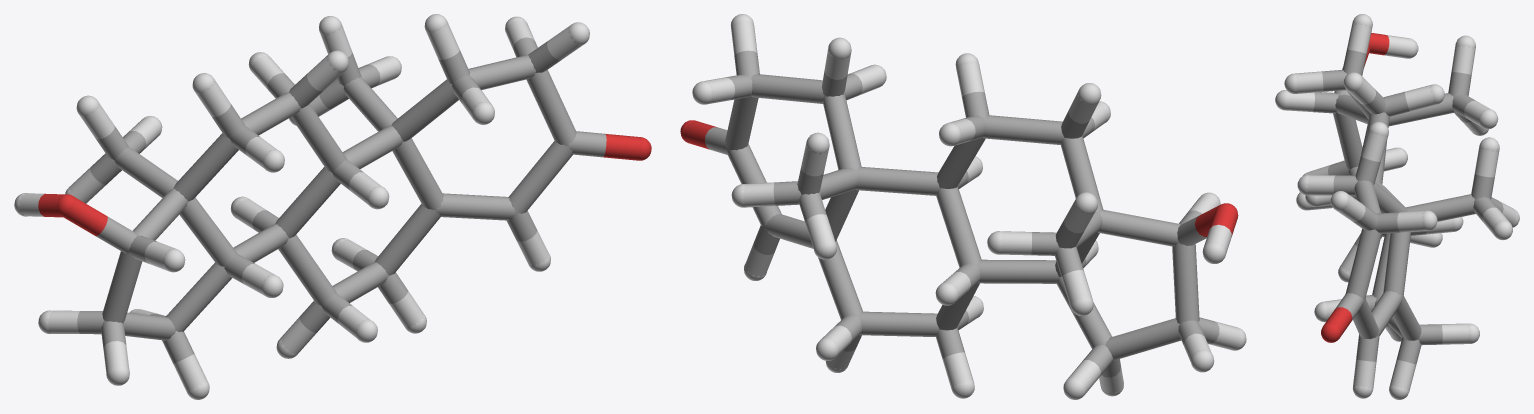
File: testosterone-sticks.glb
3 views of the same model, side by side, from view 1: azimuth 30°, elevation 25°; view 2: azimuth 150°, elevation 25°; view 3: azimuth 270°, elevation 25° (orthographic). The views are drawn at different scales.
Parts seen in each view (by area): view 1: testosterone-sticks; view 2: testosterone-sticks; view 3: testosterone-sticks.
Part boxes in pixels (box(x1,y1,x2,y2)): testosterone-sticks: box(14, 14, 651, 399); testosterone-sticks: box(680, 14, 1246, 399); testosterone-sticks: box(1275, 14, 1519, 399).
Size of the model in its own units: 11.44 by 6.13 by 4.75.
